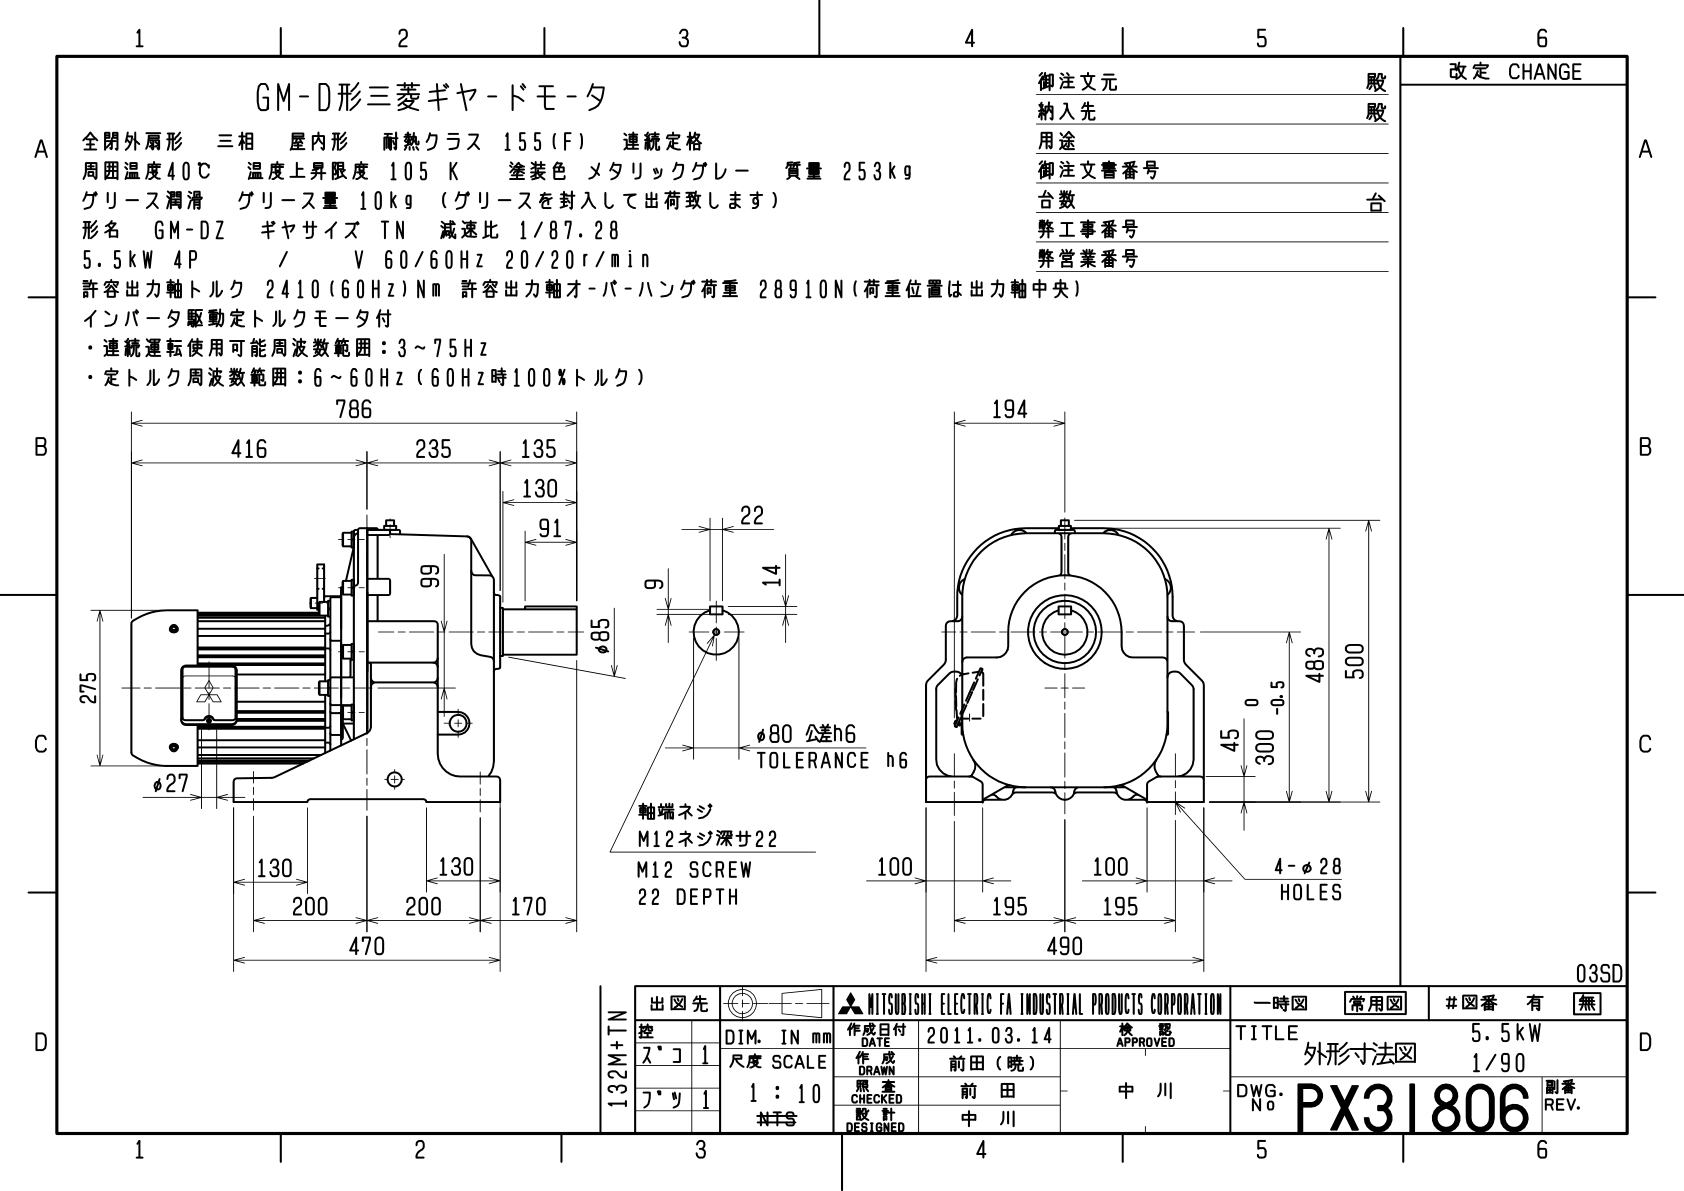GM_D_インバータ屋内_三相_脚: (79, 392, 1393, 978)
